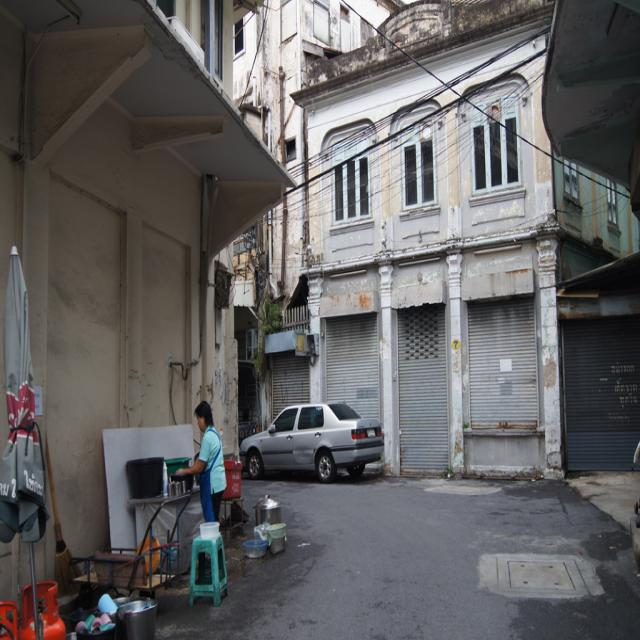car: (239, 403, 384, 488)
